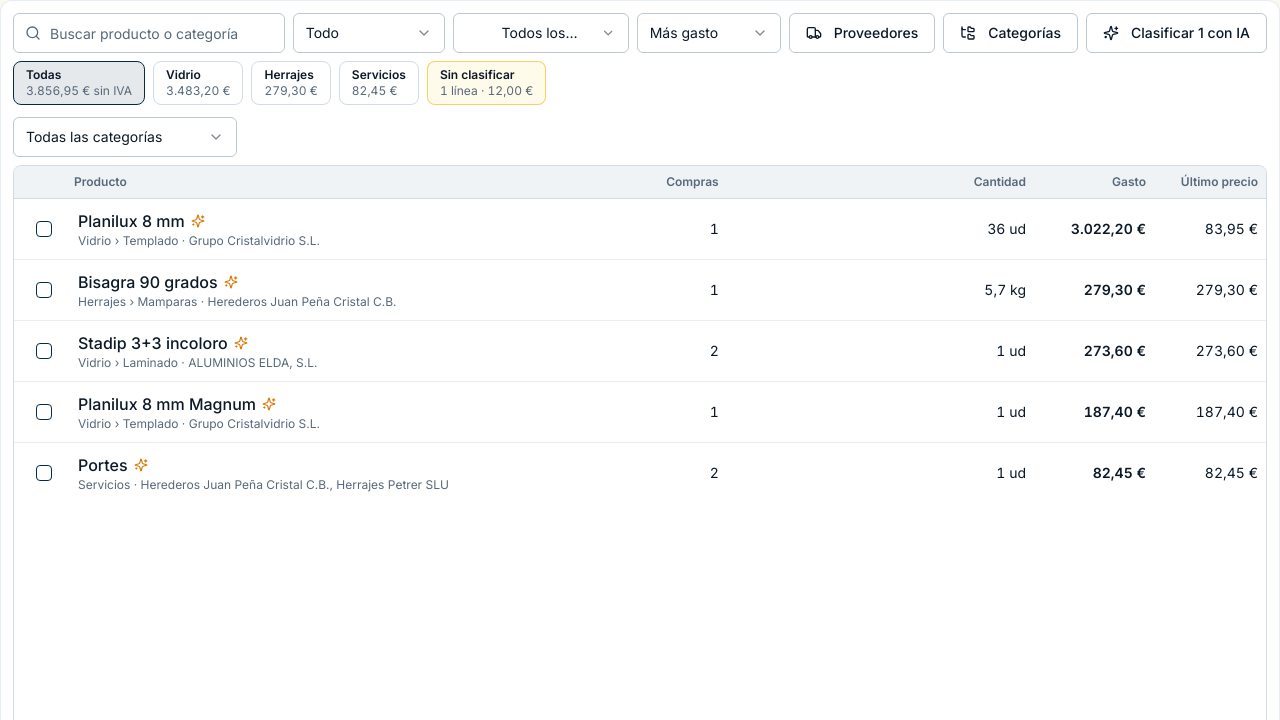
it: Proveedores unificados en Productos › fusionar dos con CIF distinto avisa
The width and height of the screenshot is (1280, 720).
Expected: the text "Planilux 8 mm" is shown, 78,209 -> 185,233
What coordinates should you click on to do the following:
click the button "Proveedores"
I would click on:
 (862, 33)
Its box is 789,13 -> 935,53.
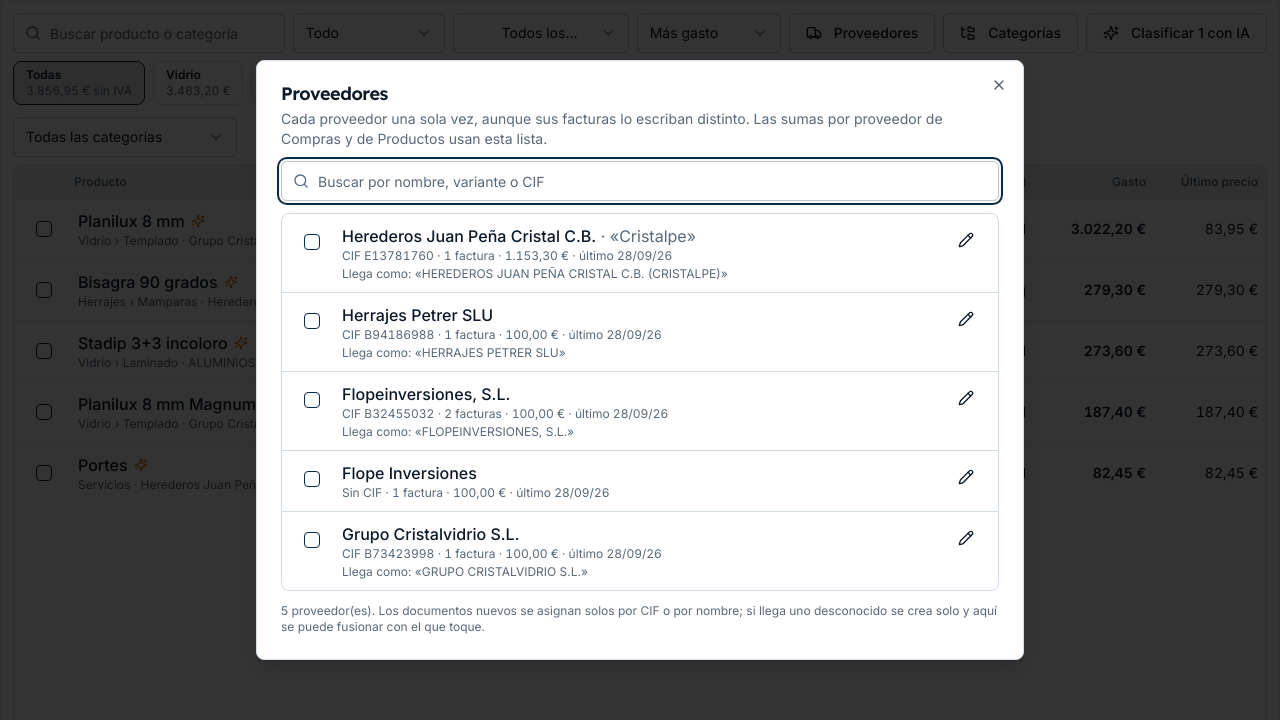
Expected: the list with test id "lista-proveedores" is shown, 281,213 -> 999,591
What coordinates should you click on to do the following:
click the checkbox named "Seleccionar Herrajes Petrer SLU"
I would click on:
 (312, 321)
Its box is 304,313 -> 320,329.
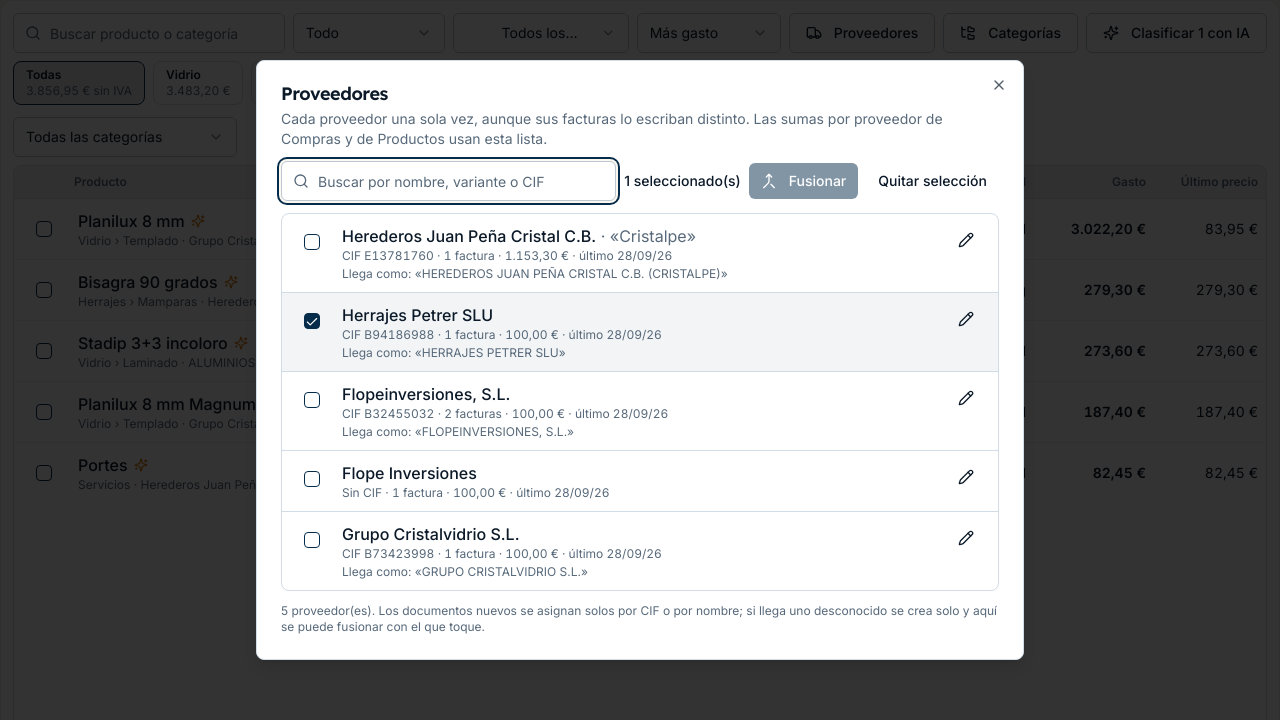
What coordinates should you click on to do the following:
click the checkbox named "Seleccionar Grupo Cristalvidrio S.L."
I would click on:
 (312, 540)
Its box is 304,532 -> 320,548.
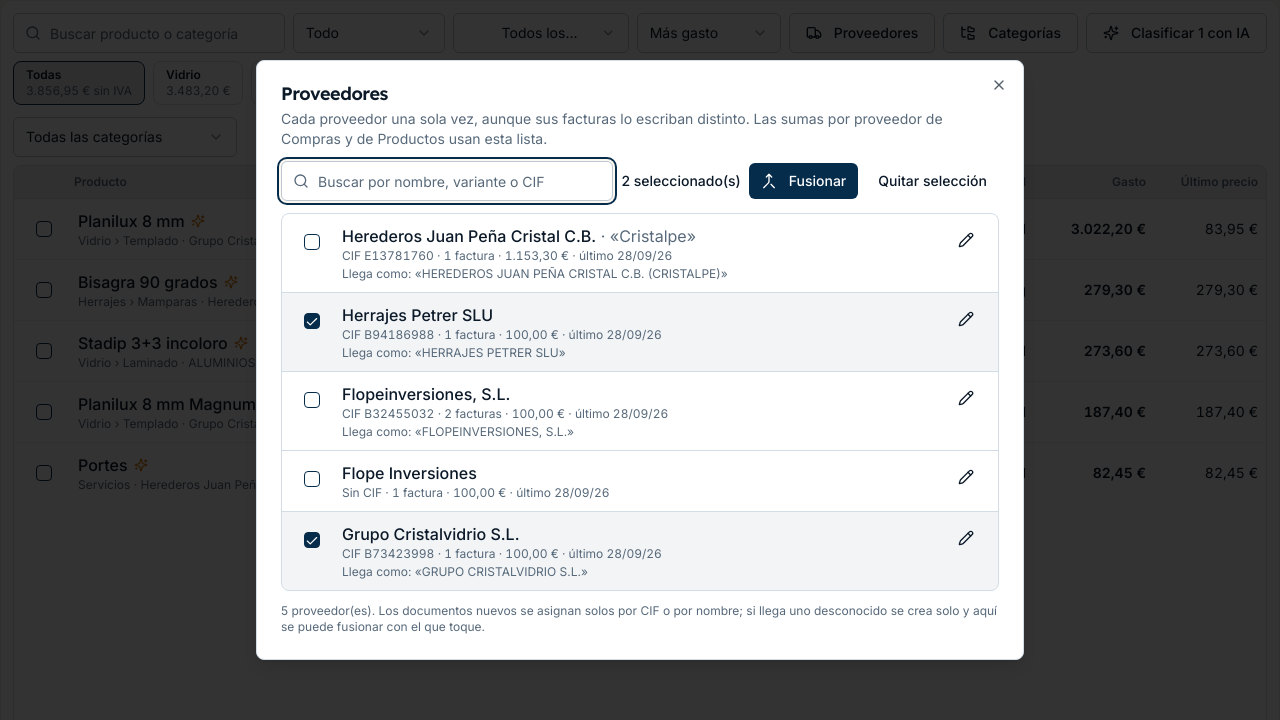
What coordinates should you click on to do the following:
click the button "Fusionar"
I would click on:
 (804, 181)
Its box is 749,163 -> 858,199.
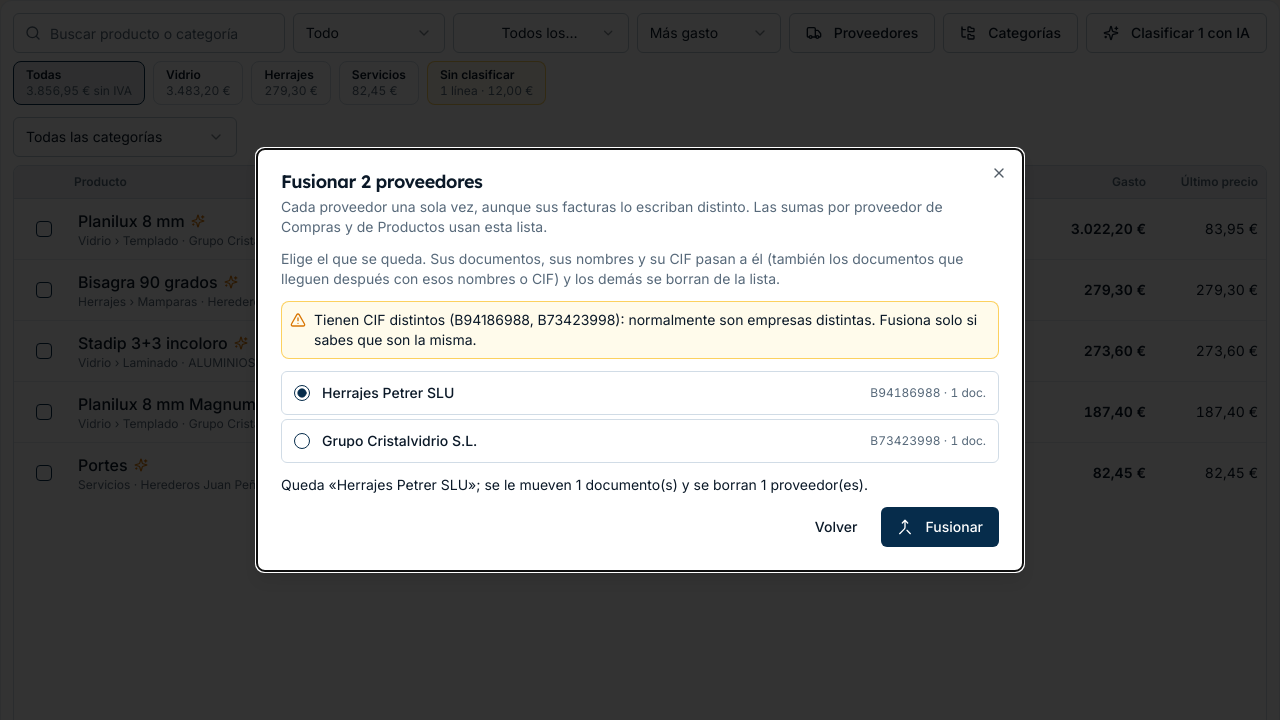
Expected: the text "CIF distintos (B94186988, B73423998)" is shown, 281,301 -> 999,359
